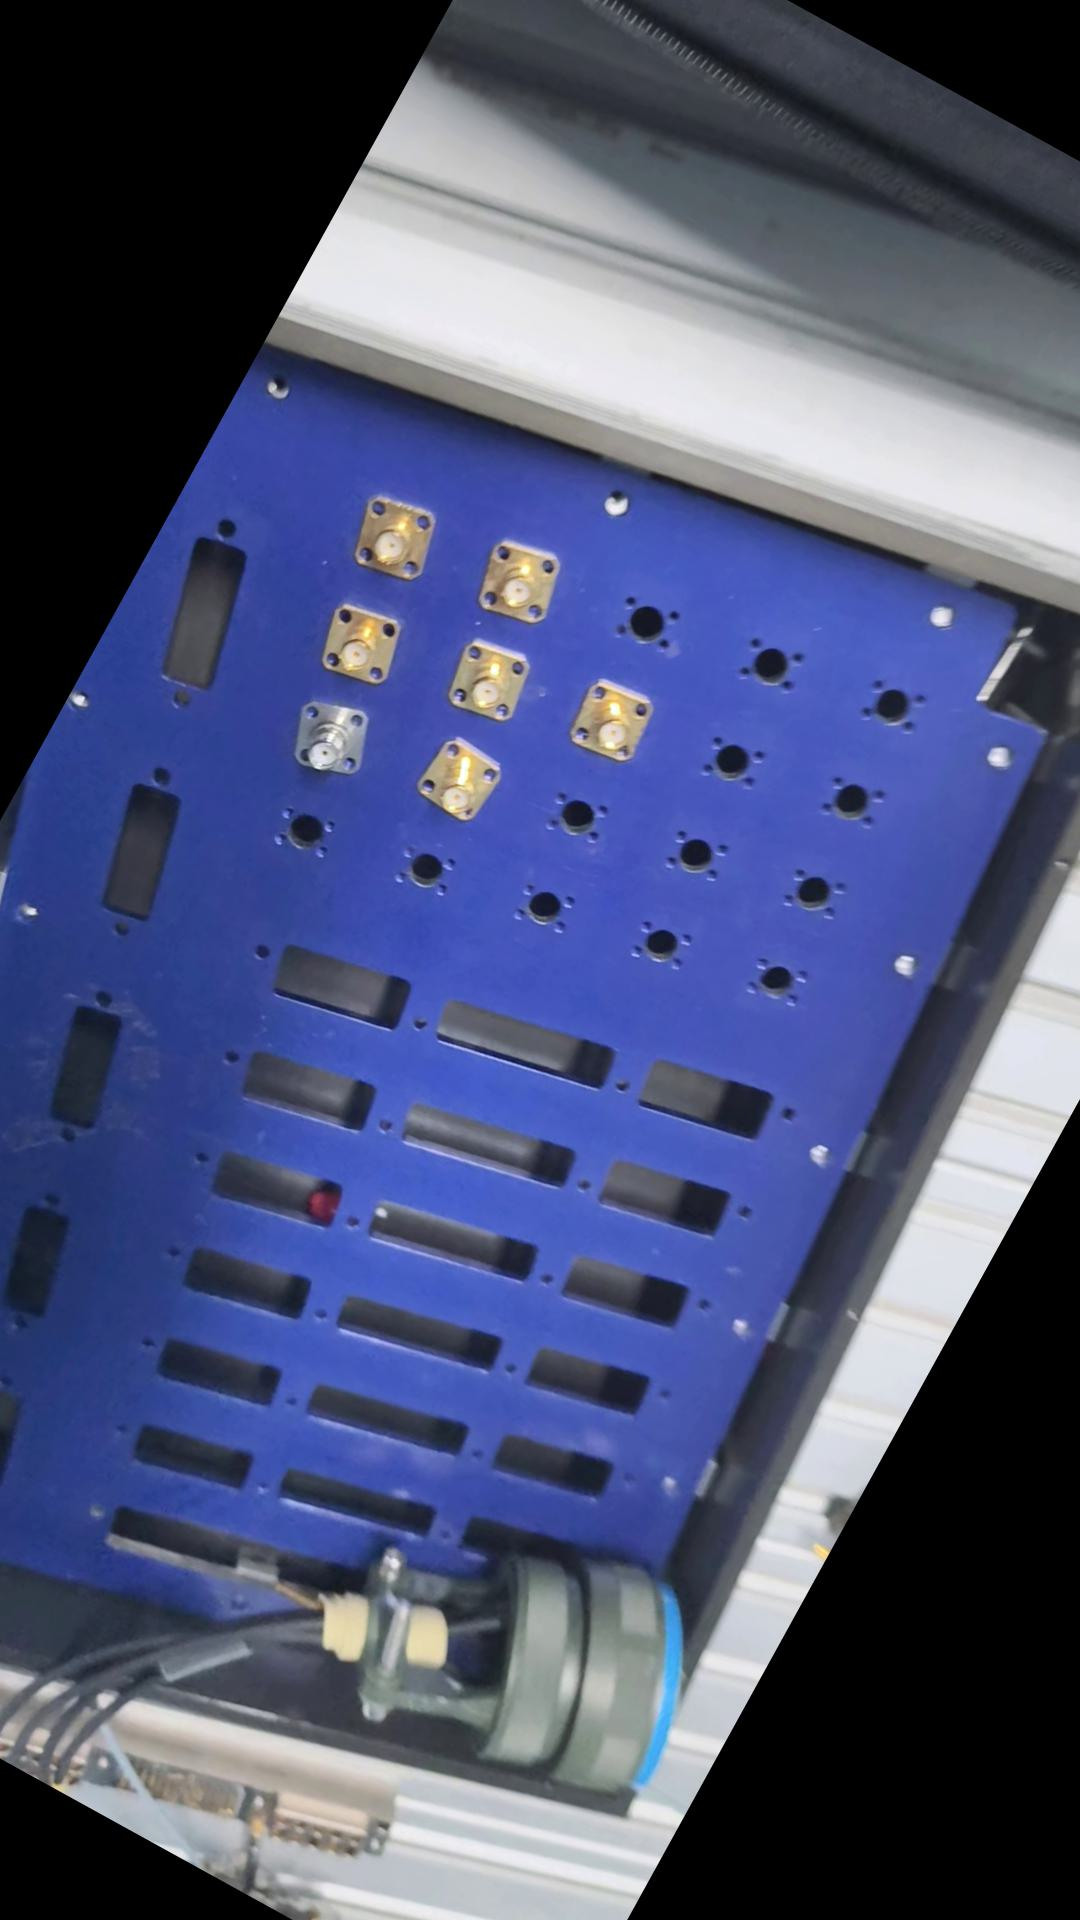SMA: (336, 477, 458, 593), (463, 527, 582, 640), (562, 670, 669, 781), (409, 731, 514, 833), (309, 596, 415, 698), (280, 684, 382, 786), (438, 632, 541, 729)
